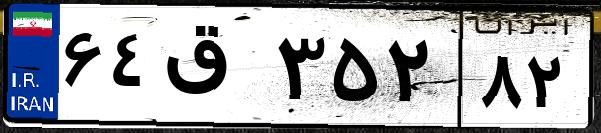2: (385, 28, 445, 110), (525, 38, 570, 115)
3: (270, 28, 330, 110)
4: (110, 28, 158, 98)
5: (330, 28, 385, 110)
6: (57, 26, 110, 100)
8: (475, 38, 525, 113)
ق: (158, 20, 270, 120)
